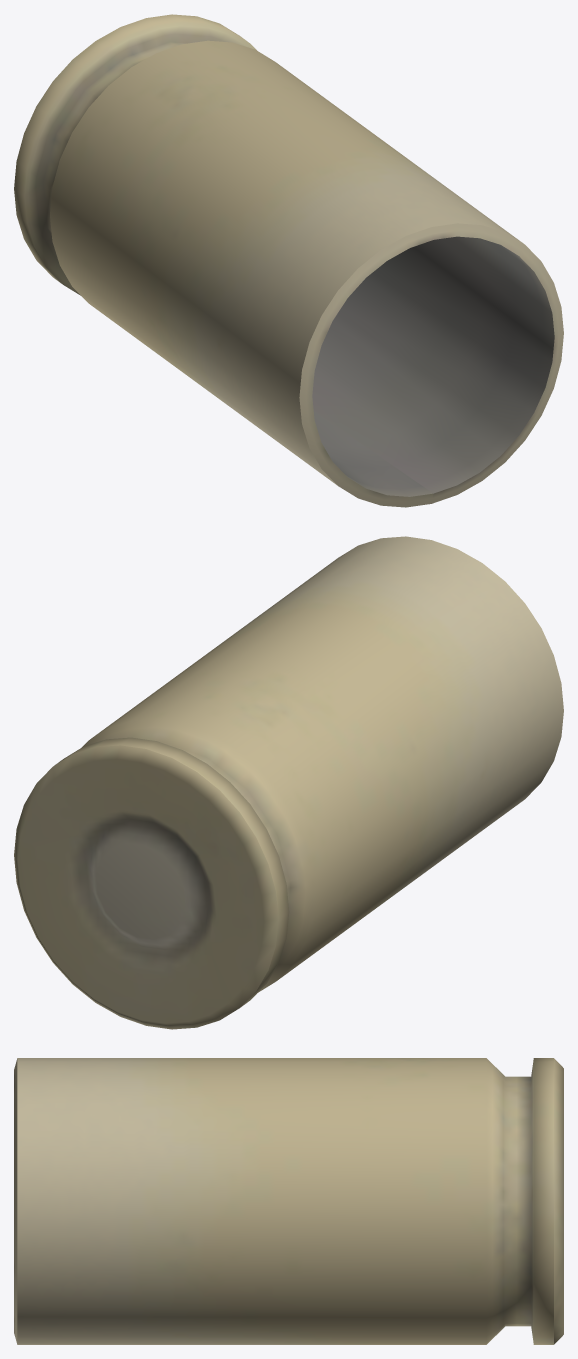
File: glock_casing.glb
The picture shows the model from 3 angles, top to bottom: view 1: azimuth 30°, elevation 25°; view 2: azimuth 150°, elevation 25°; view 3: azimuth 270°, elevation 25°; orthographic projection. The views are drawn at different scales.
Parts seen in each view (by area): view 1: weapons/models/shared/shells/glock/glock_casing.vmdl_c.high; view 2: weapons/models/shared/shells/glock/glock_casing.vmdl_c.high; view 3: weapons/models/shared/shells/glock/glock_casing.vmdl_c.high.
Boxes of the visible parts, bbox=[...] form: weapons/models/shared/shells/glock/glock_casing.vmdl_c.high: bbox=[14, 14, 563, 507]; weapons/models/shared/shells/glock/glock_casing.vmdl_c.high: bbox=[14, 536, 563, 1029]; weapons/models/shared/shells/glock/glock_casing.vmdl_c.high: bbox=[14, 1058, 563, 1344].
Size of the model in its own units: 0.01 by 0.01 by 0.0192.
Materials: 1 (1 with a texture image).
